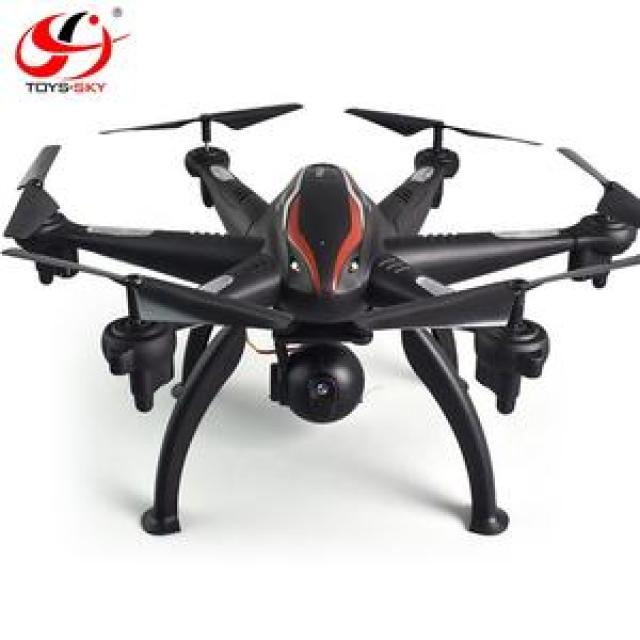drone: (4, 90, 640, 530)
